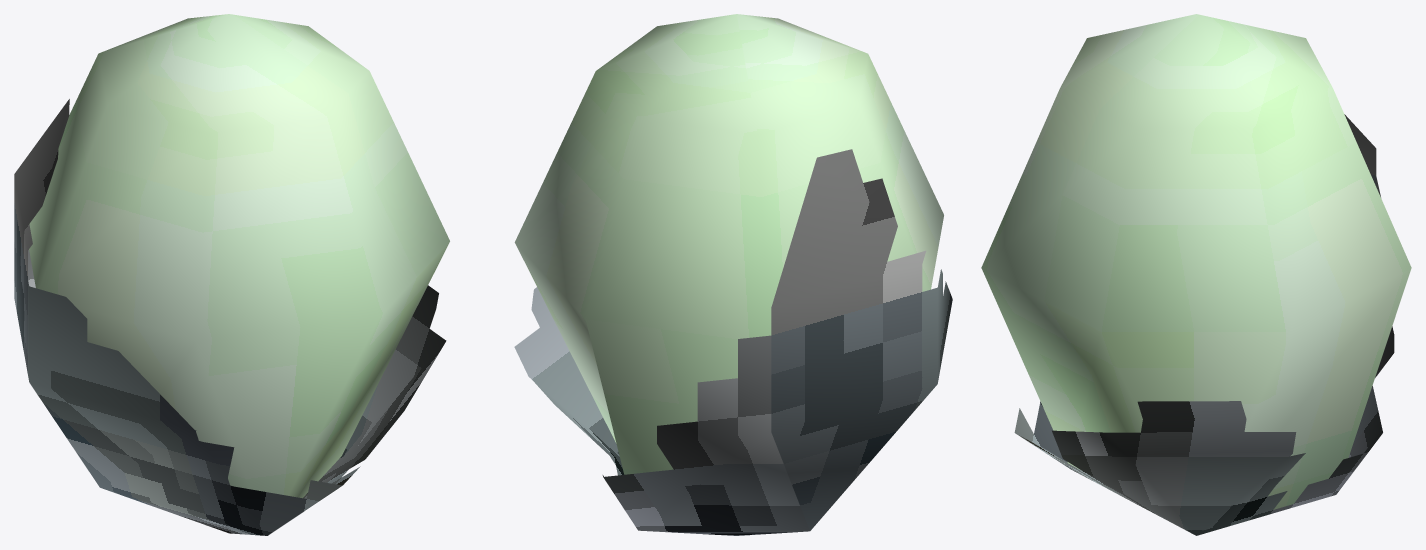
File: force_amplification_crystal_l2.fbx
3 renders of one model, left to right at view 1: azimuth 30°, elevation 25°; view 2: azimuth 150°, elevation 25°; view 3: azimuth 270°, elevation 25°, orthographic.
Visible parts, largest first — view 1: mesh_node; view 2: mesh_node; view 3: mesh_node.
Boxes of the visible parts, x1,y1,x2,y2 form: mesh_node: (14, 14, 449, 535); mesh_node: (514, 14, 952, 535); mesh_node: (981, 14, 1411, 535).
Size of the model in its own units: 0.2 by 0.2611 by 0.1969.
